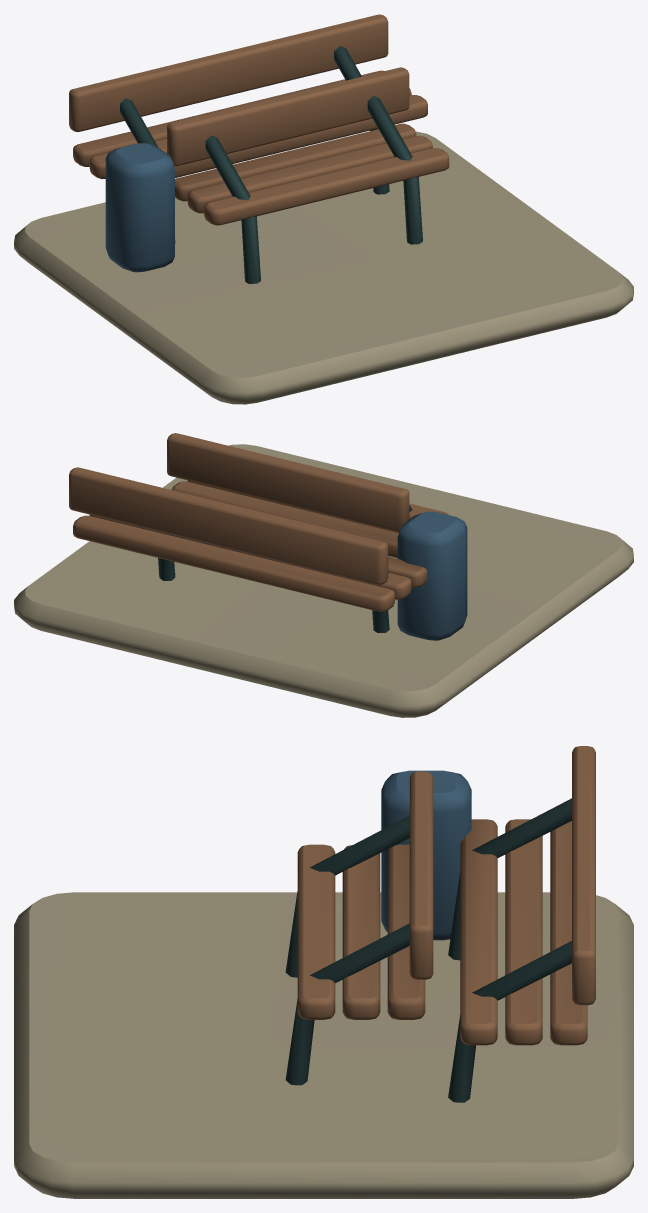
File: alpine_motel_1.glb
The picture shows the model from 3 angles, top to bottom: view 1: azimuth 30°, elevation 25°; view 2: azimuth 150°, elevation 25°; view 3: azimuth 270°, elevation 25°; orthographic projection. The views are drawn at different scales.
Parts seen in each view (by area): view 1: Motel1; view 2: Motel1; view 3: Motel1.
Boxes of the visible parts, x1,y1,x2,y2 form: Motel1: (14, 14, 633, 404); Motel1: (14, 433, 633, 717); Motel1: (14, 746, 633, 1198).
Size of the model in its own units: 2.68 by 0.95 by 2.48.
